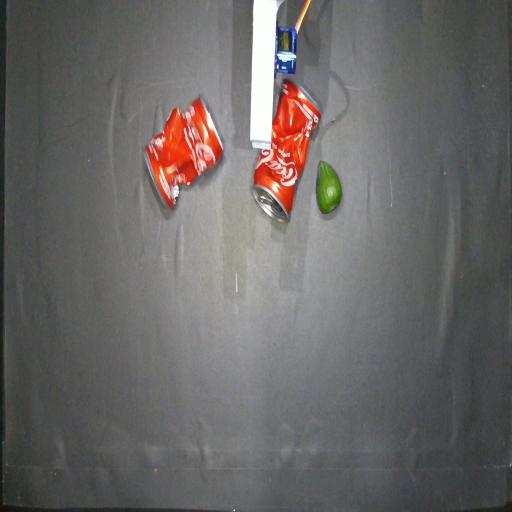higo: (316, 161, 342, 214)
lata_defectuoso: (253, 79, 321, 220), (145, 97, 223, 208)
